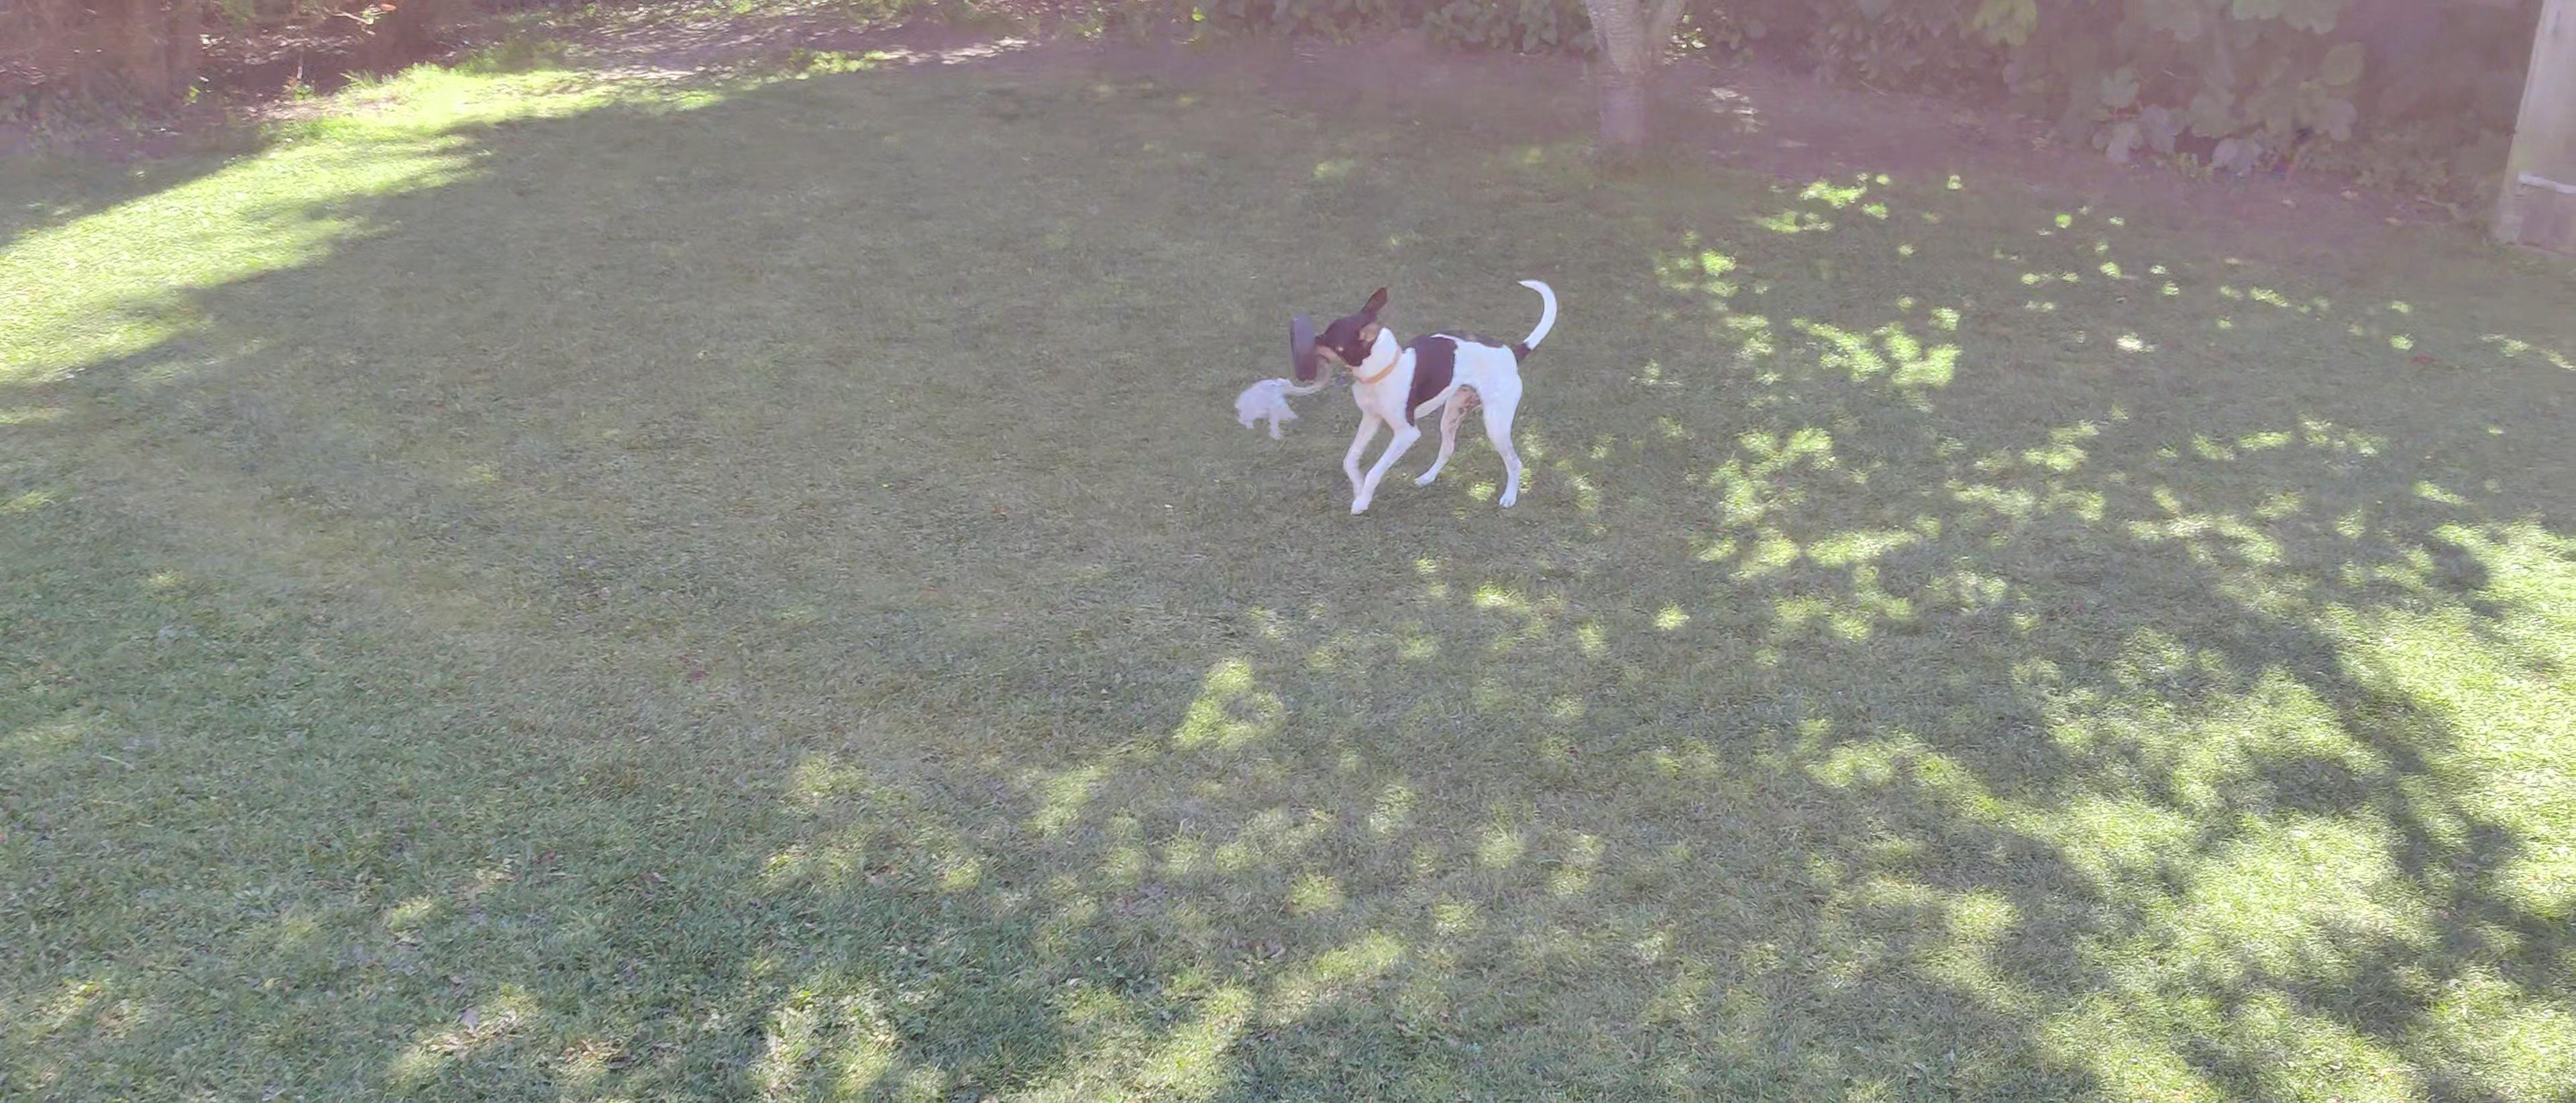Dog: (1276, 273, 1566, 521)
